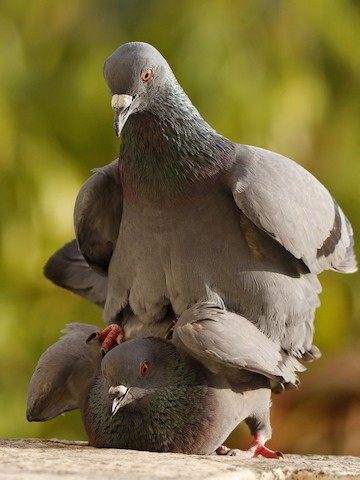pigeon: (59, 48, 349, 358), (24, 316, 297, 456)
